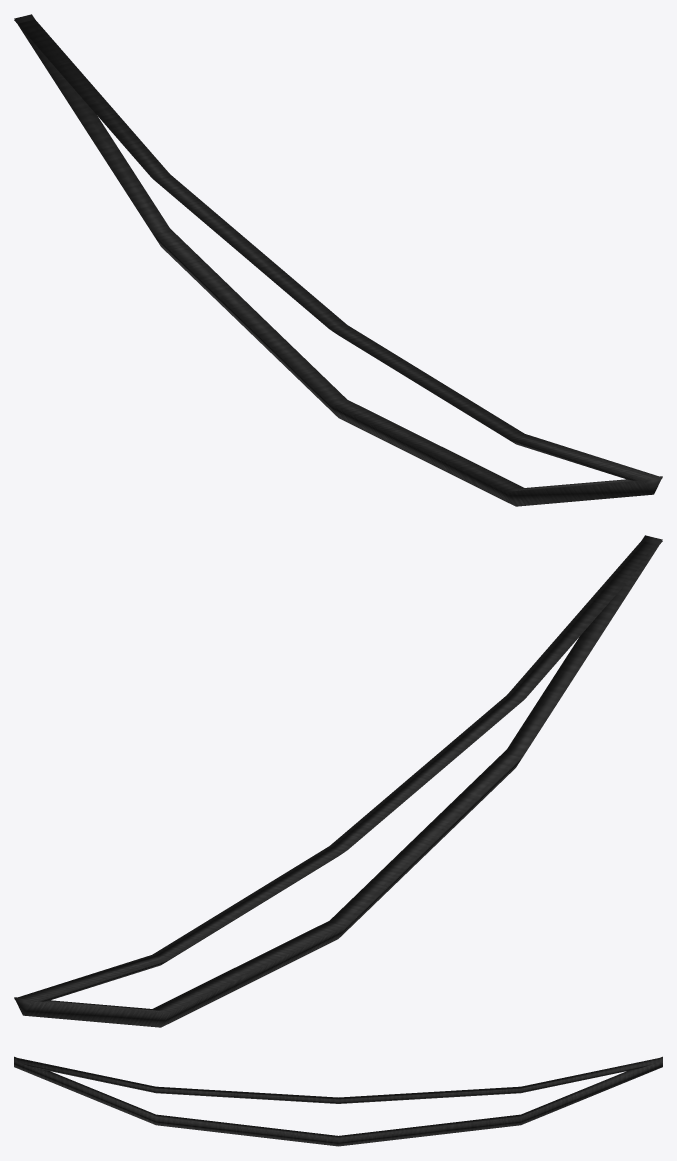
Rendered from Cable2.fbx.
The picture shows the model from 3 angles, top to bottom: view 1: azimuth 30°, elevation 25°; view 2: azimuth 150°, elevation 25°; view 3: azimuth 270°, elevation 25°; orthographic projection. The views are drawn at different scales.
Visible parts, largest first — view 1: Cables_01; view 2: Cables_01; view 3: Cables_01.
Boxes of the visible parts, x1,y1,x2,y2 form: Cables_01: [14, 14, 662, 506]; Cables_01: [14, 535, 662, 1027]; Cables_01: [14, 1056, 662, 1146].
Bounding box in the file's own units: 3.83 × 34.82 × 233.
